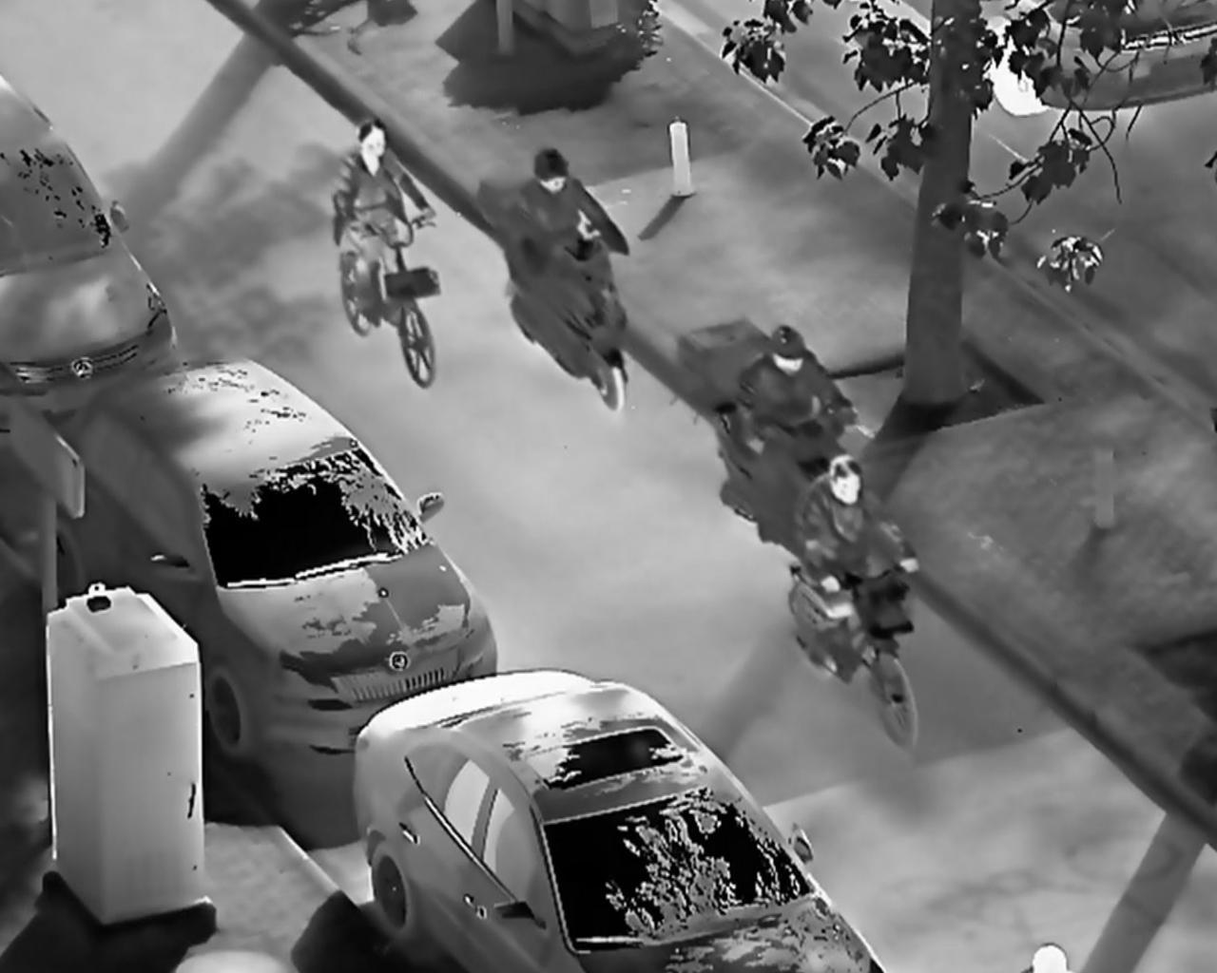person: (795, 454, 923, 689), (332, 118, 441, 332), (504, 148, 633, 310), (734, 323, 864, 466)
